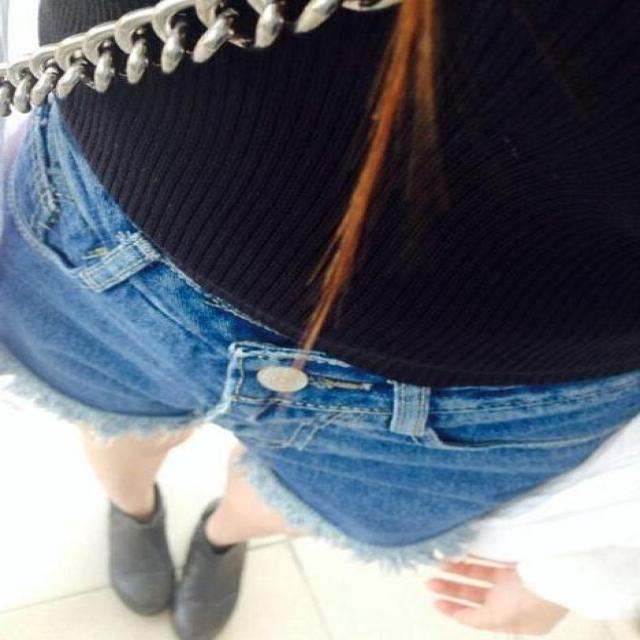short sleeve top: (44, 1, 632, 372)
shorts: (1, 85, 635, 506)
